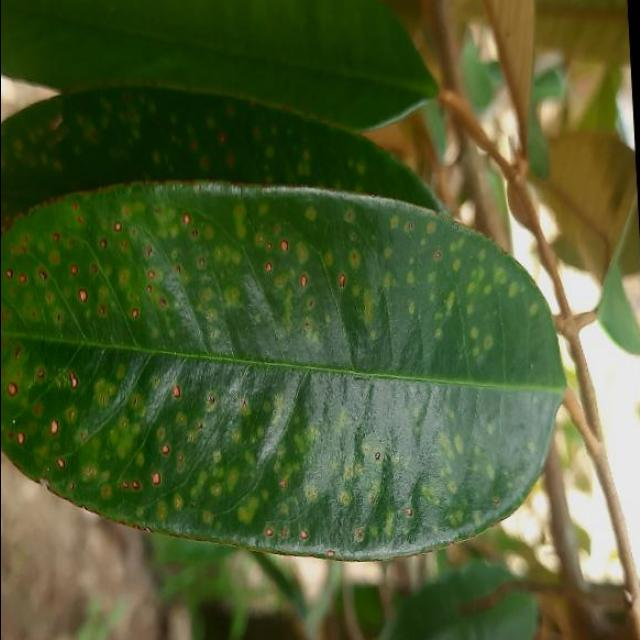Leaf Spot: (0, 53, 584, 590)
